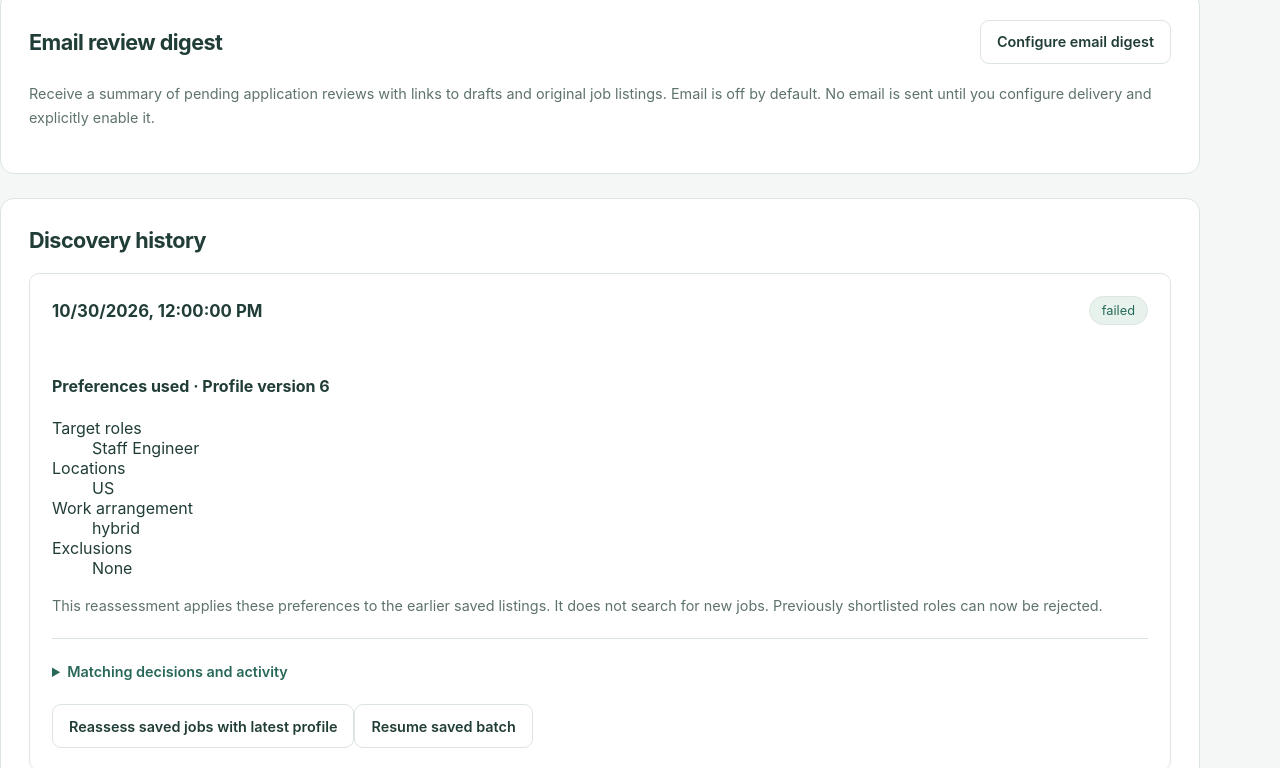
it: shows preferences and partial rejection decisions before matching finishes
(page scrolled)
Expected: the element named "Preferences used for this batch" shows "us", [92,478,114,498]
Expected: the text "hybrid" is shown, [92,518,140,538]
Click the heading "Matching decisions and activity". click: (178, 672)
box: [67,663,288,680]
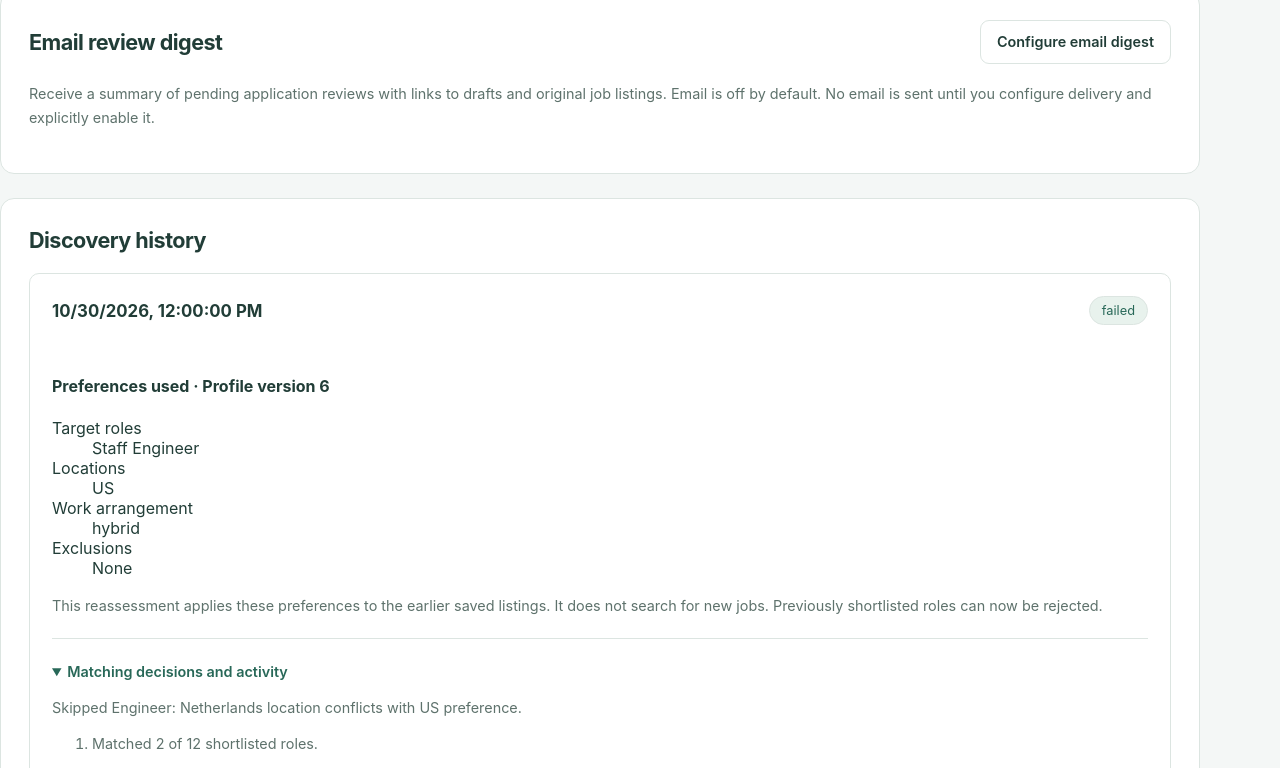
Expected: the text "does not search for new jobs" is shown, [52,596,1103,614]
Result: the text "Netherlands location conflicts with US preference" is shown at [180,699,522,716]
